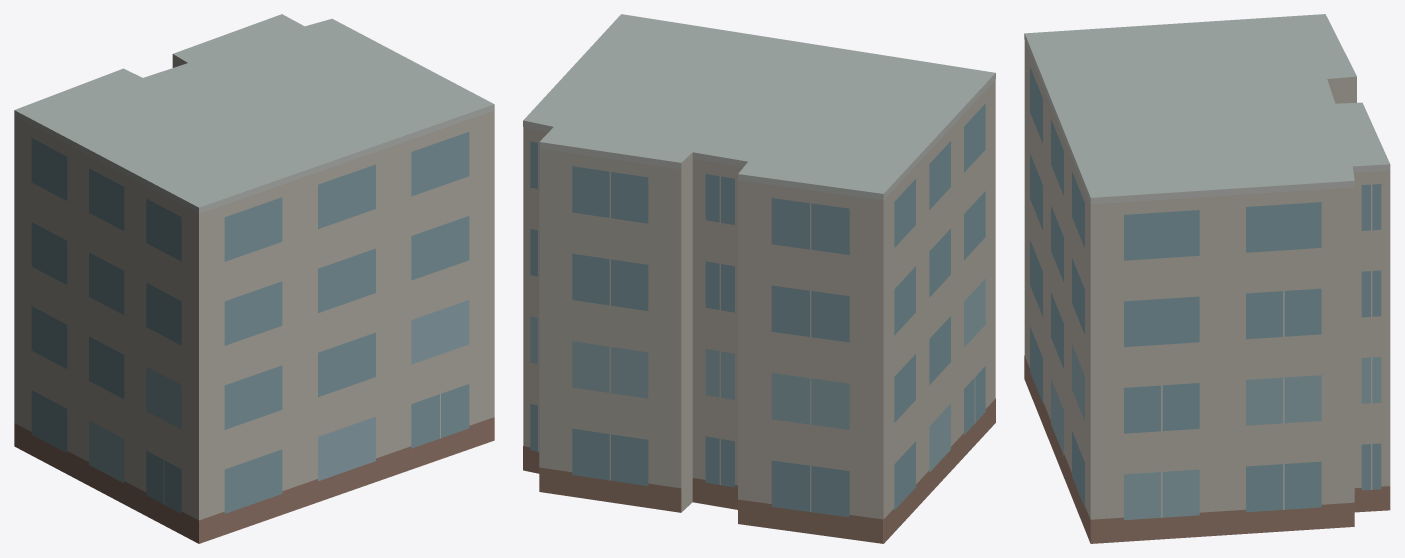
The model's file is survey-upis-33008869.glb.
3 renders of one model, left to right at view 1: azimuth 30°, elevation 25°; view 2: azimuth 150°, elevation 25°; view 3: azimuth 270°, elevation 25°, orthographic. The views are drawn at different scales.
Visible parts, largest first — view 1: survey-upis-33008869.tmp; view 2: survey-upis-33008869.tmp; view 3: survey-upis-33008869.tmp.
Part boxes in pixels (bbox=[...]): survey-upis-33008869.tmp: bbox=[14, 14, 494, 543]; survey-upis-33008869.tmp: bbox=[523, 14, 995, 543]; survey-upis-33008869.tmp: bbox=[1024, 14, 1390, 543].
Size of the model in its own units: 15.05 by 13.2 by 12.66.
